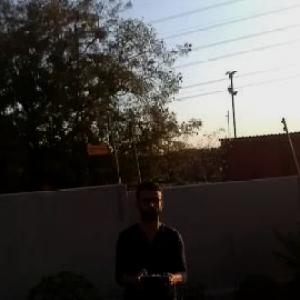follow: (103, 172, 190, 299)
